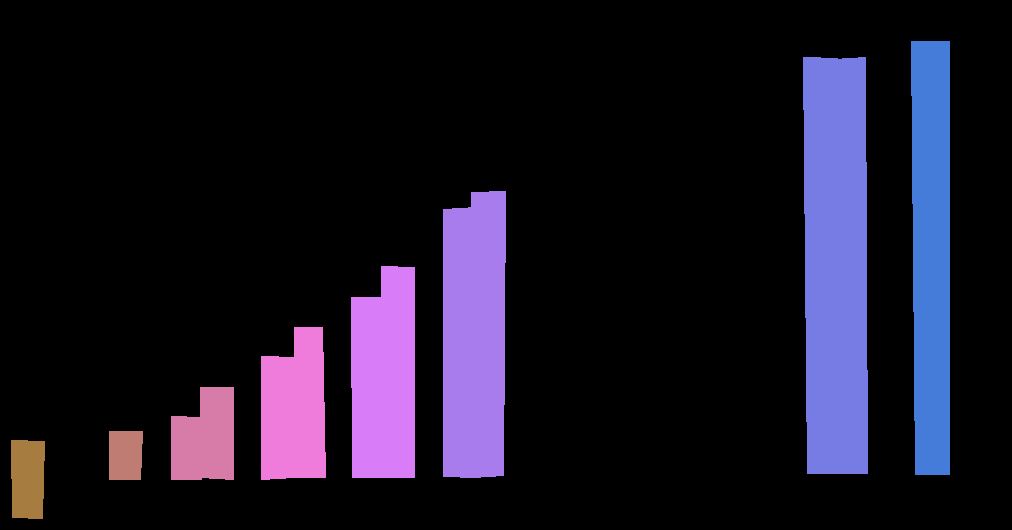parkingspot: (911, 41, 949, 474), (803, 57, 837, 473), (833, 57, 867, 473), (471, 191, 505, 477), (443, 207, 475, 477), (381, 266, 414, 477), (351, 297, 384, 477), (293, 327, 325, 477), (261, 356, 295, 479), (200, 387, 233, 479), (11, 440, 44, 518), (171, 416, 201, 479), (109, 431, 142, 479)
